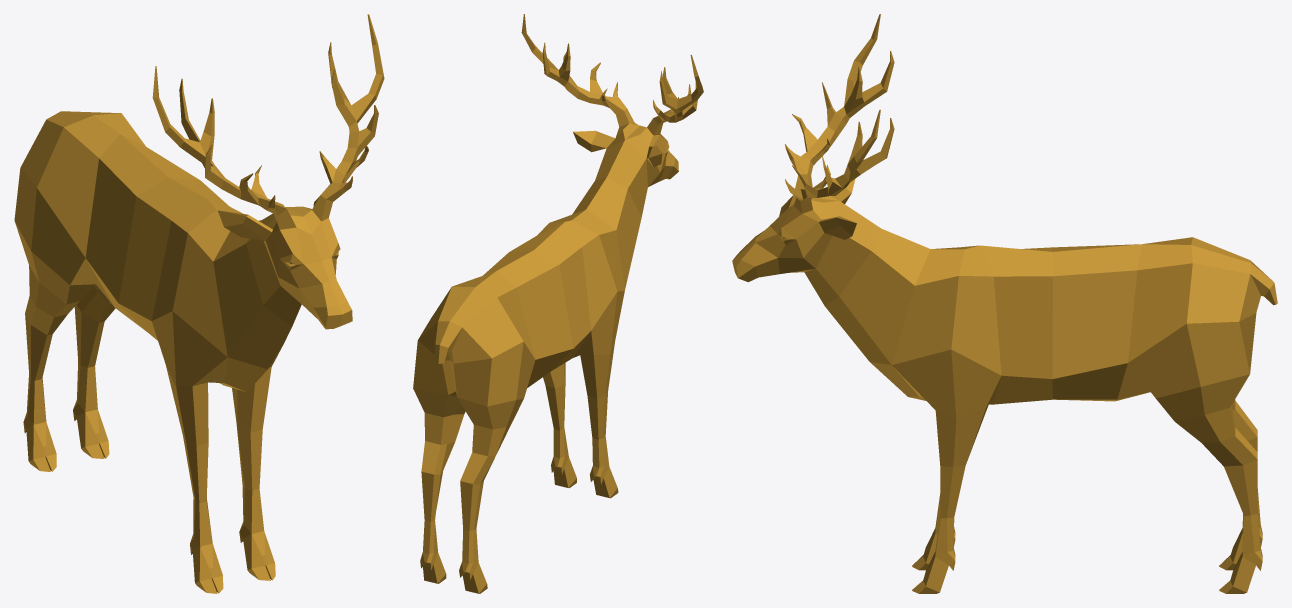
The model's file is CERF_Free.obj.
The picture shows the model from 3 angles, left to right: view 1: azimuth 30°, elevation 25°; view 2: azimuth 150°, elevation 25°; view 3: azimuth 270°, elevation 25°; orthographic projection. The views are drawn at different scales.
Parts seen in each view (by area): view 1: ORIGAMI_Cerf; view 2: ORIGAMI_Cerf; view 3: ORIGAMI_Cerf.
Boxes of the visible parts, x1,y1,x2,y2 form: ORIGAMI_Cerf: (14, 14, 384, 593); ORIGAMI_Cerf: (413, 14, 703, 593); ORIGAMI_Cerf: (732, 14, 1277, 593).
Bounding box in the file's own units: 94.33 × 224 × 214.
